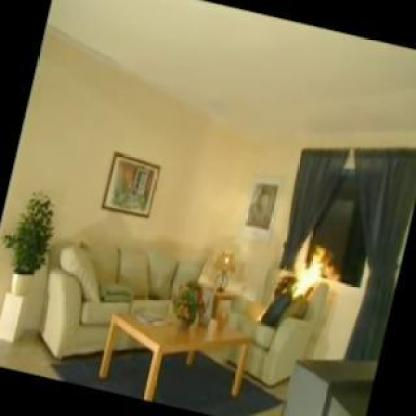Fire: (286, 238, 328, 305)
